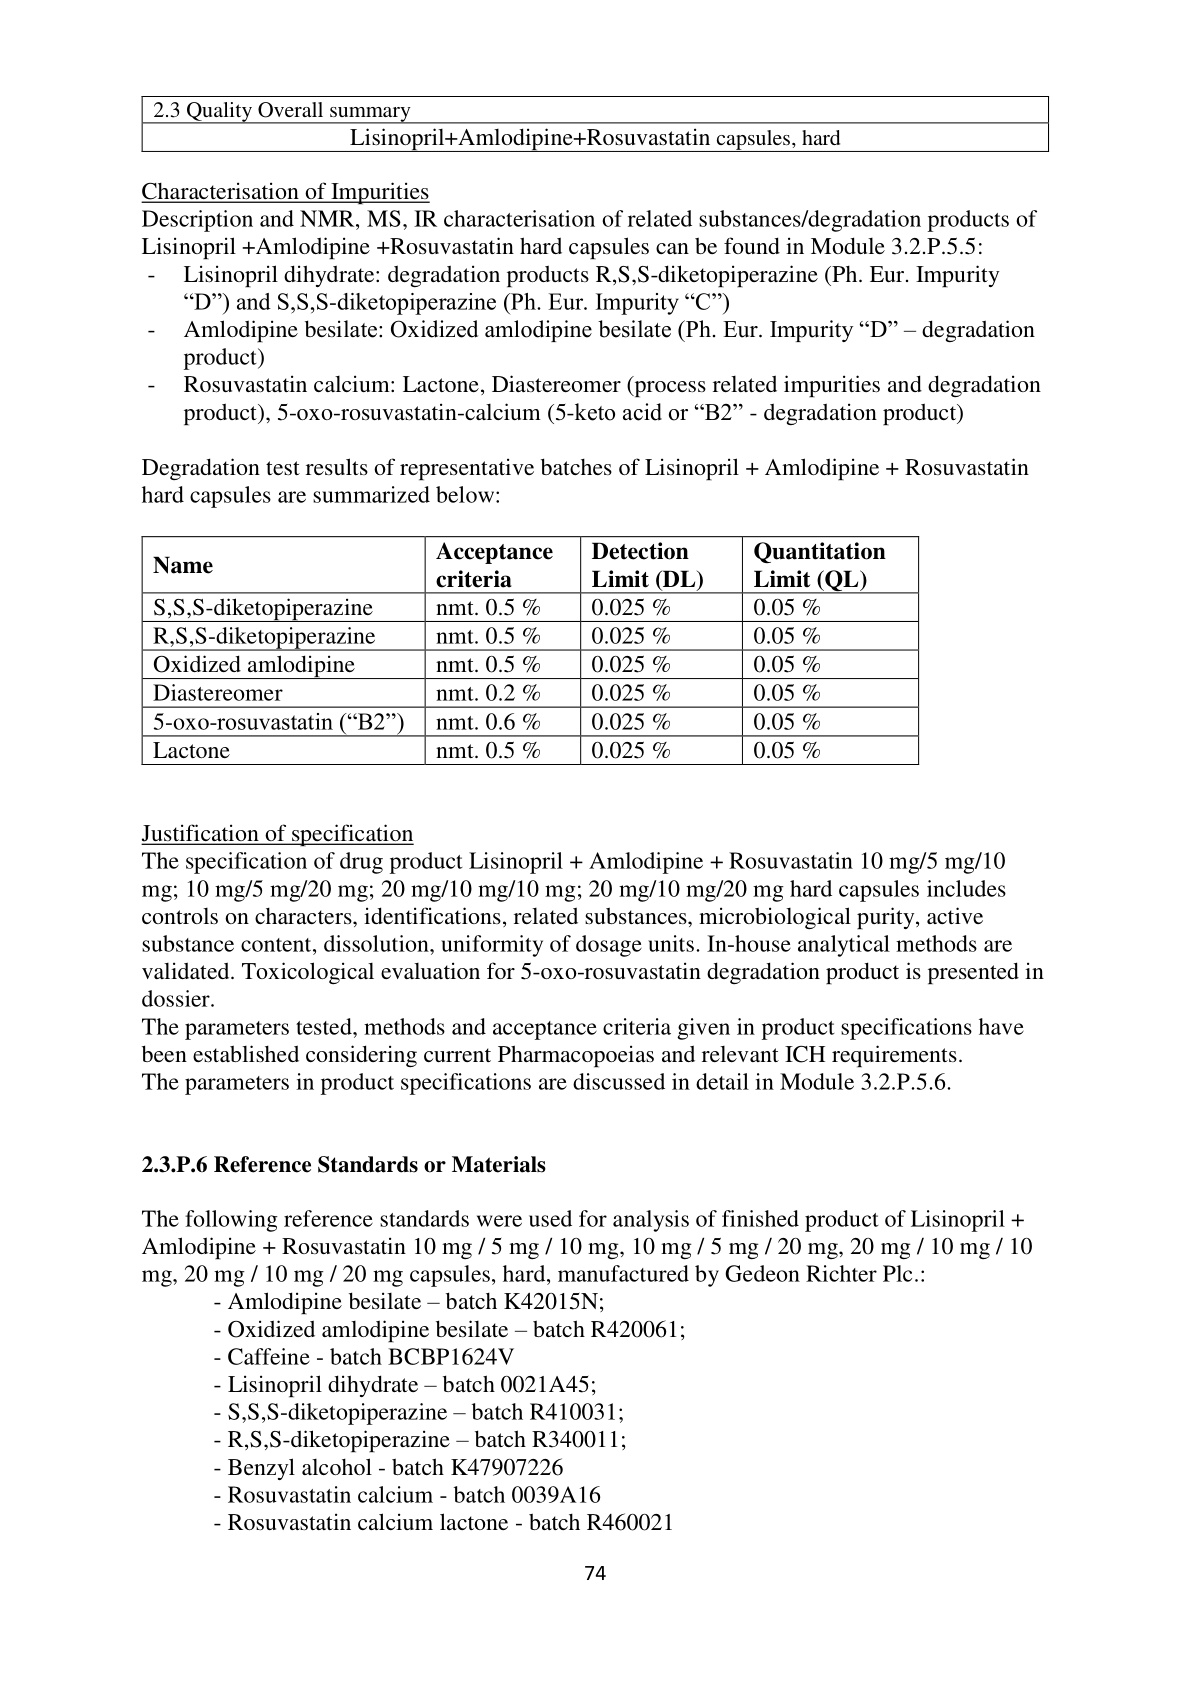full_lined: (144, 539, 919, 761), (142, 94, 1045, 157)
